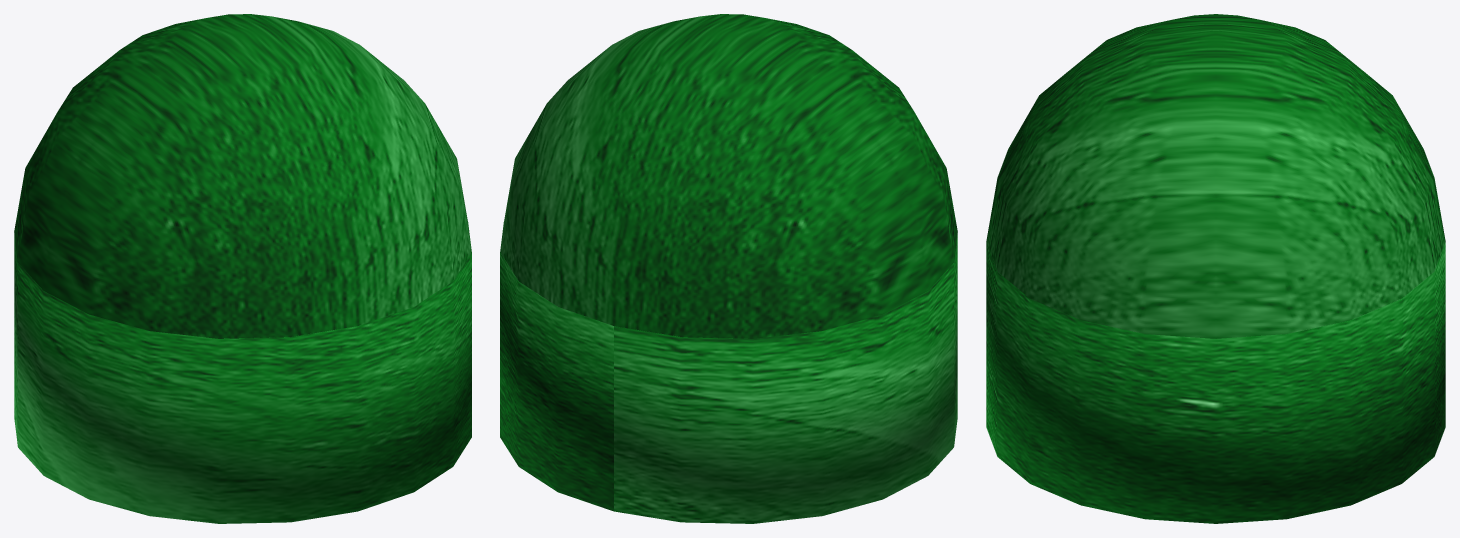
Rendered from 反彈牆綠色沙漠關.fbx.
3 views of the same model, side by side, from view 1: azimuth 30°, elevation 25°; view 2: azimuth 150°, elevation 25°; view 3: azimuth 270°, elevation 25° (orthographic).
Parts seen in each view (by area): view 1: 球體, 圓柱體; view 2: 球體, 圓柱體; view 3: 球體, 圓柱體.
Part boxes in pixels (left/top/right/bottom): 球體: left=14, top=14, right=471, bottom=338; 圓柱體: left=14, top=222, right=471, bottom=523; 球體: left=500, top=14, right=957, bottom=338; 圓柱體: left=500, top=222, right=957, bottom=523; 球體: left=986, top=14, right=1445, bottom=338; 圓柱體: left=986, top=242, right=1445, bottom=523.
Bounding box in the file's own units: 180 × 180 × 170.
Materials: 2 (2 with a texture image).
